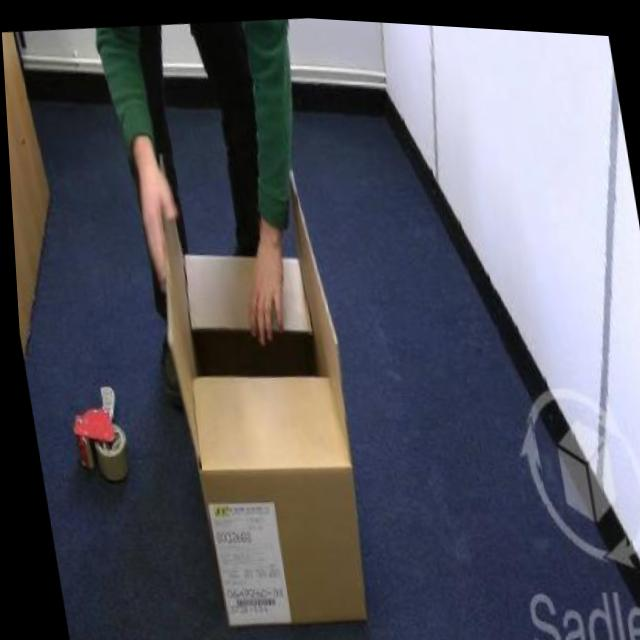box: (125, 132, 404, 640)
